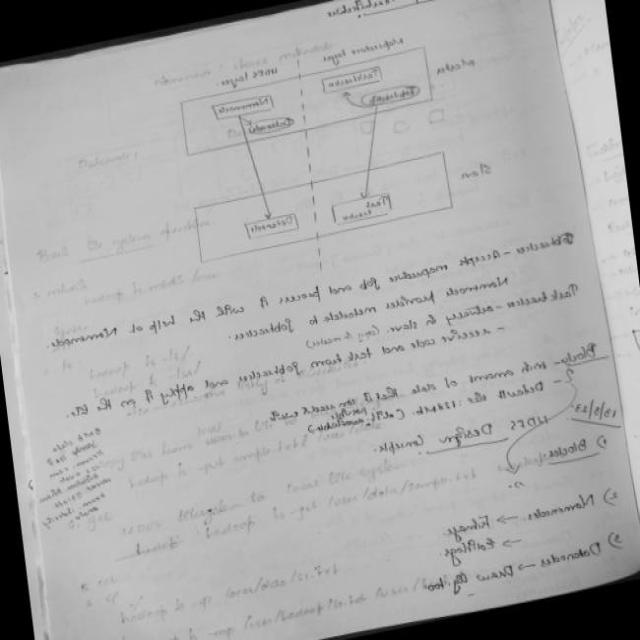Figure Detection - v3 Dataset Version2: (142, 0, 523, 297)
